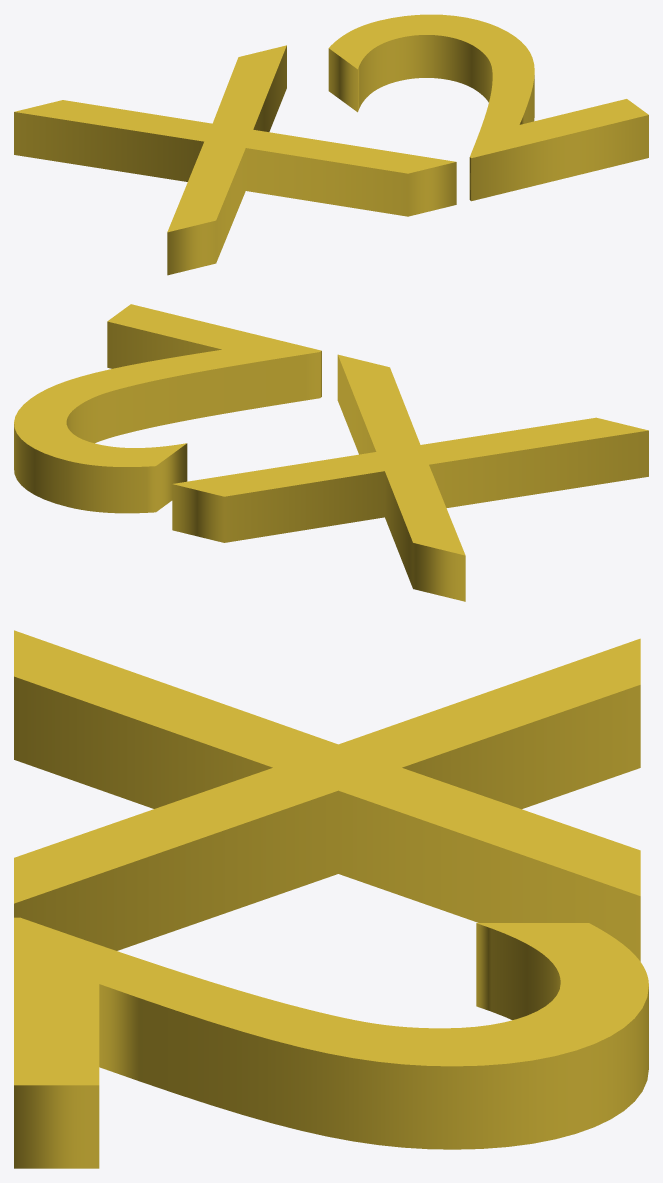
File: X2 Multiplier.glb
The picture shows the model from 3 angles, top to bottom: view 1: azimuth 30°, elevation 25°; view 2: azimuth 150°, elevation 25°; view 3: azimuth 270°, elevation 25°; orthographic projection. The views are drawn at different scales.
Parts seen in each view (by area): view 1: Text; view 2: Text; view 3: Text.
Part boxes in pixels (x1,y1,x2,y2): Text: (14,14,648,275); Text: (14,304,648,601); Text: (14,630,648,1168).
Size of the model in its own units: 1.17 by 0.1 by 0.691.
